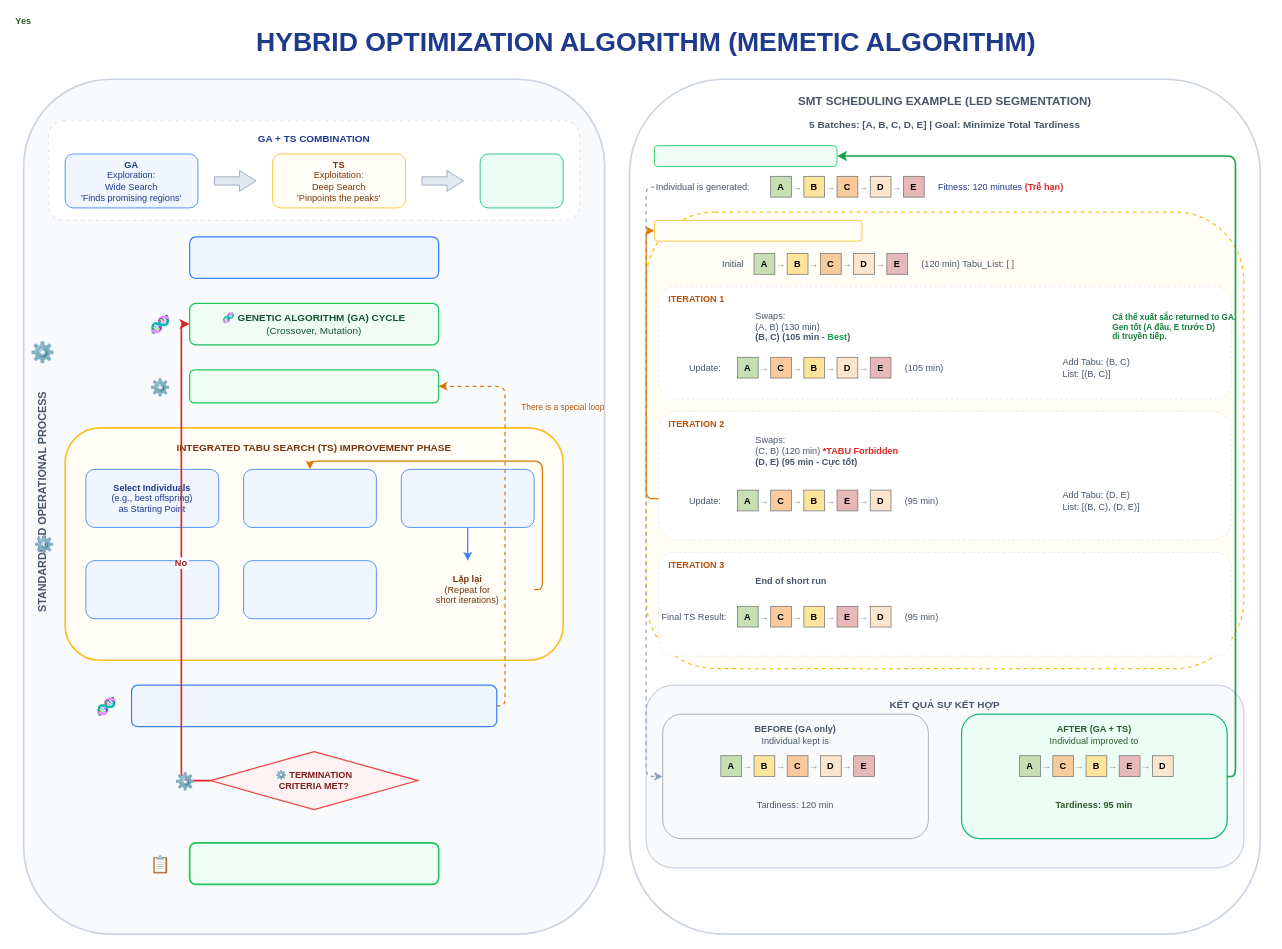
Some shapes in this 1282 by 949 pixel diagram are drawn without their labels. Here are the shapes that lost their labels. From the top down, the centre of each, then its label:
At (x=745, y=155): "GIAI ĐOẠN 1: GA GLOBAL SEARCH".
At (x=521, y=180): "💎 kho báu (Best solution)".
At (x=758, y=230): "GIAI ĐOẠN 2: TABU SEARCH REFINEMENT".
At (x=314, y=257): "START: INITIAL POPULATION (e.g., SMT Schedules)".
At (x=314, y=386): "⚙️ GENERATE OFFSPRING".
At (x=309, y=498): "Neighboring Search (Hoán đổi vị trí)".
At (x=467, y=498): "Select moves to Local Tabu List".
At (x=152, y=589): "Evaluate Neighbors".
At (x=309, y=589): "Update Best Local Solution (Ghi nhớ, tránh lặp lại)".
At (x=314, y=705): "🧬 UPDATE POPULATION WITH IMPROVED INDIVIDUALS".
At (x=313, y=863): "📋 BEST SCHEDULE (Optimal Order, Minimum Tardiness)".
